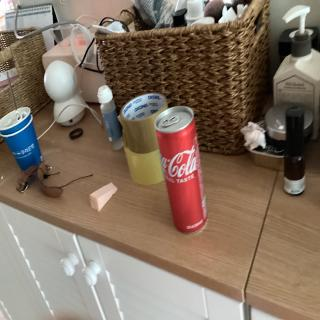cocacola: (153, 101, 213, 234)
